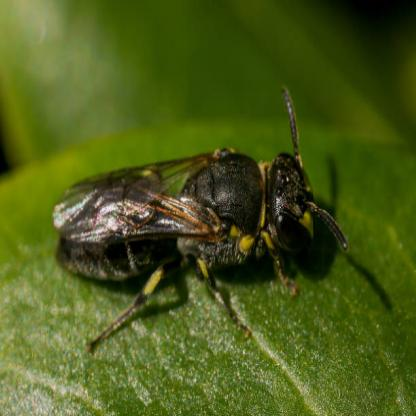sawfly: (47, 82, 399, 358)
